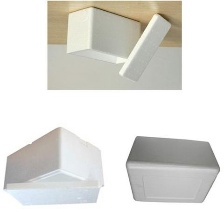foam_box: (0, 124, 108, 210), (61, 4, 175, 85), (120, 132, 224, 207)
